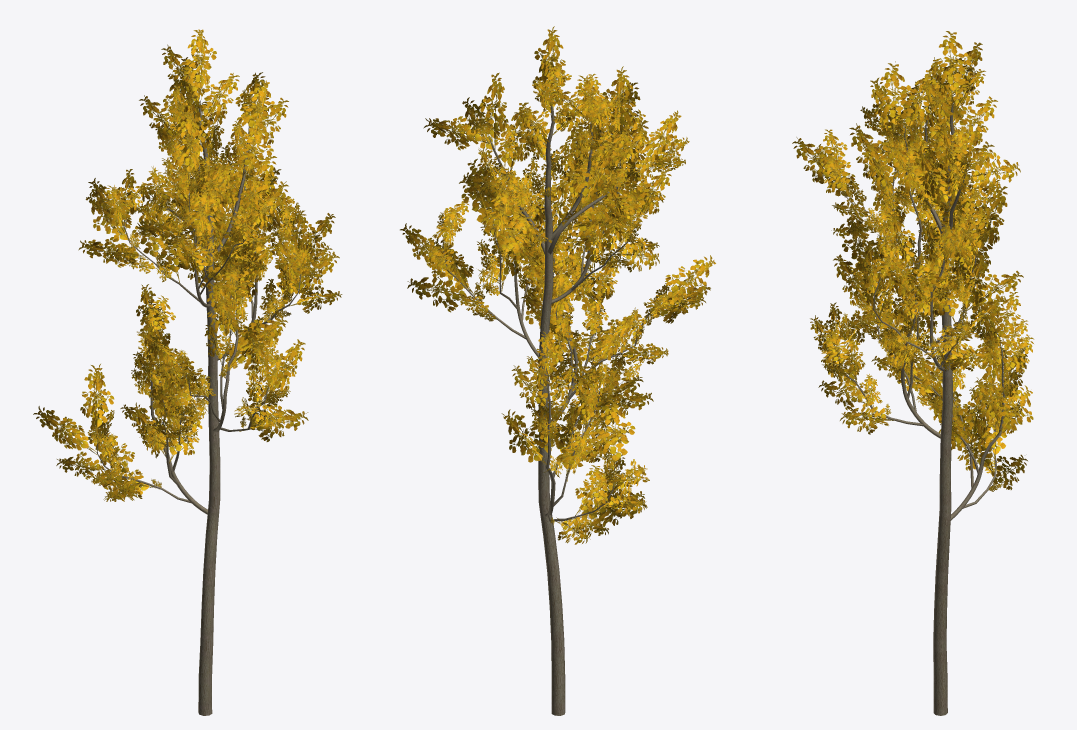
The model's file is aspen_small_03.glb.
3 views of the same model, side by side, from view 1: azimuth 30°, elevation 25°; view 2: azimuth 150°, elevation 25°; view 3: azimuth 270°, elevation 25° (orthographic).
Visible parts, largest first — view 1: Tree; view 2: Tree; view 3: Tree.
Part boxes in pixels (x1,y1,x2,y2): Tree: [33, 29, 342, 715]; Tree: [400, 26, 715, 715]; Tree: [792, 31, 1034, 715].
Size of the model in its own units: 18.6 by 38.97 by 15.17.
2 materials, 2 textured.
